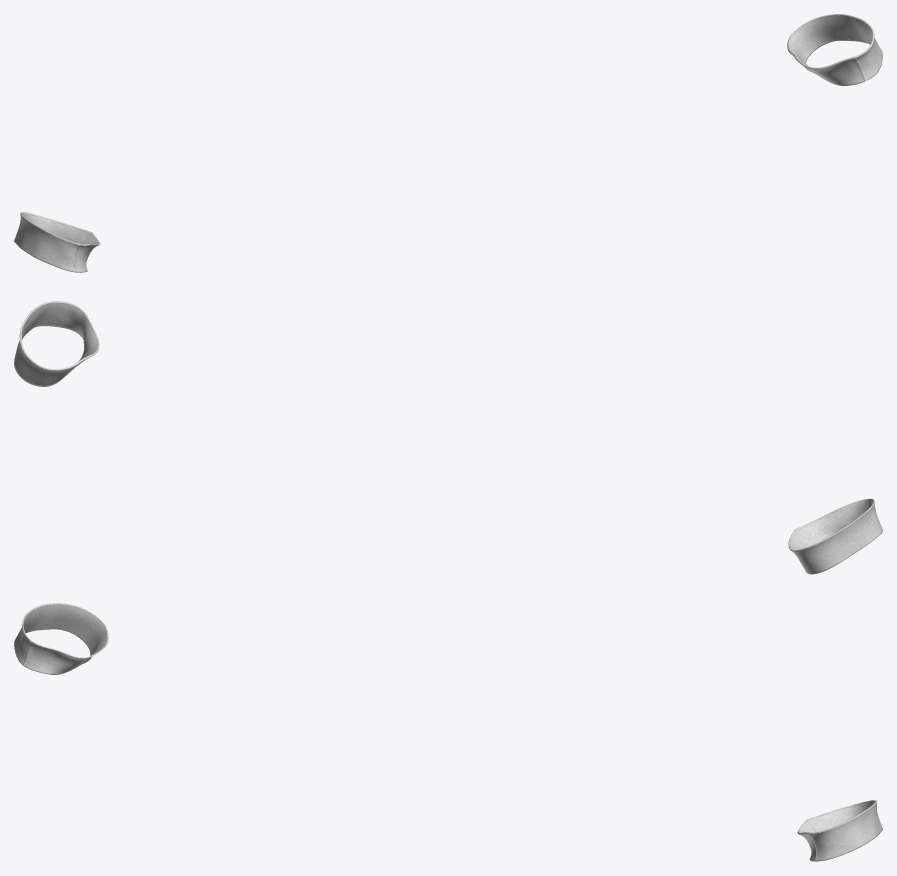
Rendered from Jac_Rope_Sleeves_V1.glb.
3 renders of one model, top to bottom at view 1: azimuth 30°, elevation 25°; view 2: azimuth 150°, elevation 25°; view 3: azimuth 330°, elevation 25°, orthographic.
Parts seen in each view (by area): view 1: Jac_Rope_Sleeves_V11, Rope1; view 2: Jac_Rope_Sleeves_V11, Rope1; view 3: Jac_Rope_Sleeves_V11, Rope1.
Part boxes in pixels (x1=…): Jac_Rope_Sleeves_V11: x1=14, y1=14, x2=882, y2=272; Rope1: x1=14, y1=15, x2=882, y2=271; Jac_Rope_Sleeves_V11: x1=14, y1=301, x2=882, y2=574; Rope1: x1=14, y1=302, x2=882, y2=573; Jac_Rope_Sleeves_V11: x1=14, y1=603, x2=882, y2=861; Rope1: x1=14, y1=604, x2=882, y2=860.
Bounding box in the file's own units: 1.72 × 0.1003 × 0.2003.
2 materials, 2 textured.
